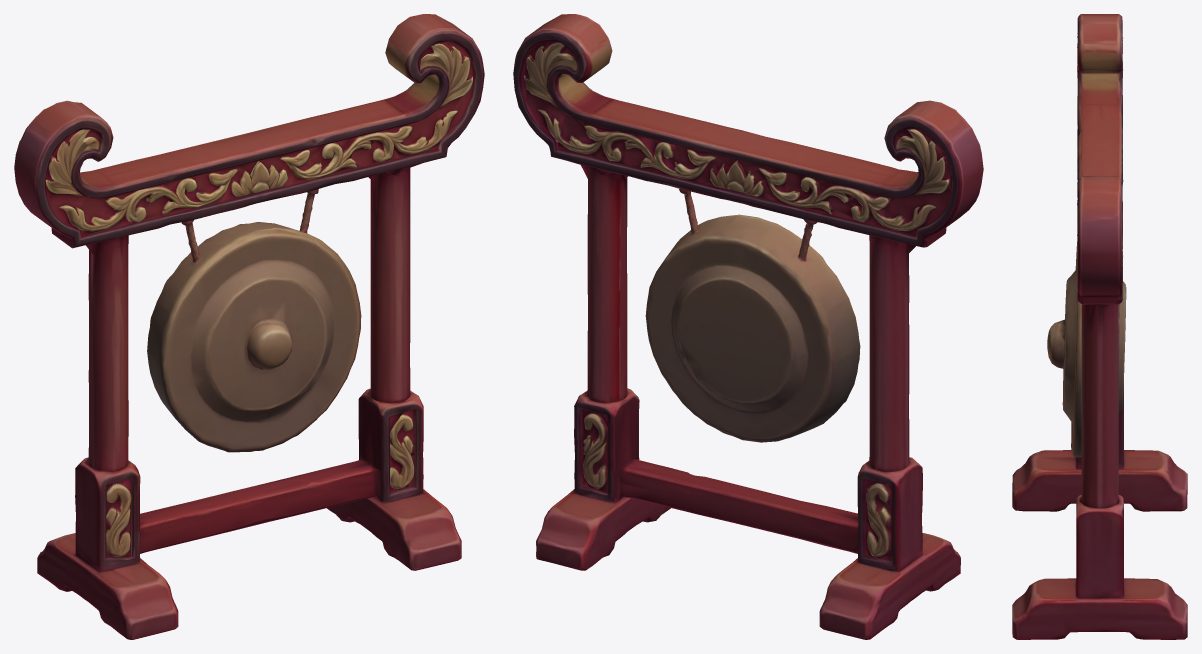
File: gong-stand.glb
3 views of the same model, side by side, from view 1: azimuth 30°, elevation 25°; view 2: azimuth 150°, elevation 25°; view 3: azimuth 270°, elevation 25° (orthographic). The views are drawn at different scales.
Visible parts, largest first — view 1: gong_stand; view 2: gong_stand; view 3: gong_stand.
Boxes of the visible parts, bbox=[...] form: gong_stand: bbox=[14, 14, 484, 639]; gong_stand: bbox=[513, 14, 983, 639]; gong_stand: bbox=[1012, 14, 1187, 639].
Bounding box in the file's own units: 2.26 × 2.4 × 0.8181.
Materials: 1 (1 with a texture image).
